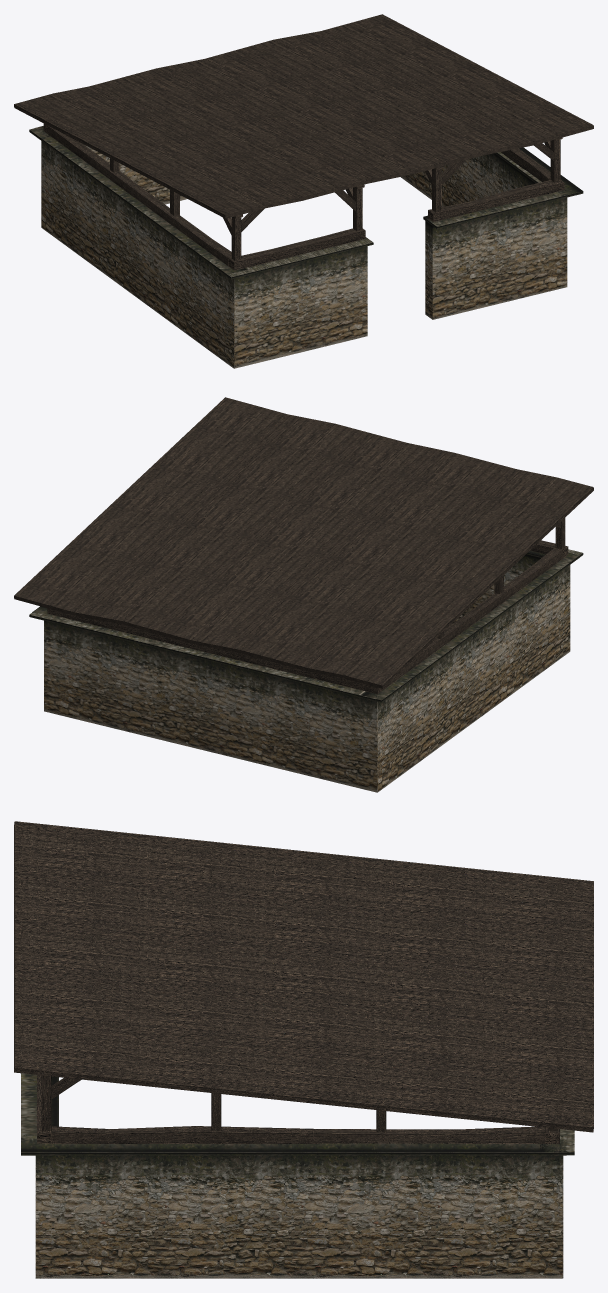
File: barn2.fbx
3 views of the same model, one above another, from view 1: azimuth 30°, elevation 25°; view 2: azimuth 150°, elevation 25°; view 3: azimuth 270°, elevation 25° (orthographic). The views are drawn at different scales.
Visible parts, largest first — view 1: Mesh Object; view 2: Mesh Object; view 3: Mesh Object.
Boxes of the visible parts, bbox=[...] form: Mesh Object: bbox=[14, 14, 593, 368]; Mesh Object: bbox=[14, 397, 593, 792]; Mesh Object: bbox=[14, 821, 593, 1278].
Size of the model in its own units: 14.19 by 6.03 by 14.11.
